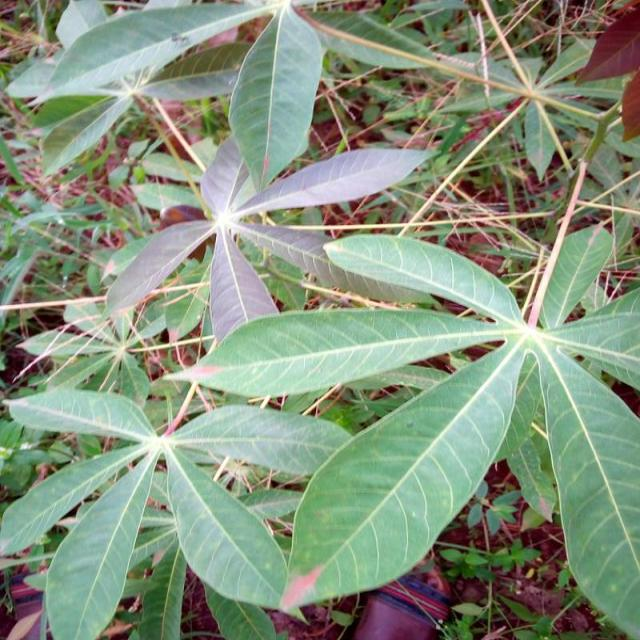cassava leaf: (1, 0, 639, 638), (278, 333, 528, 615), (103, 133, 437, 344), (226, 1, 324, 193)
